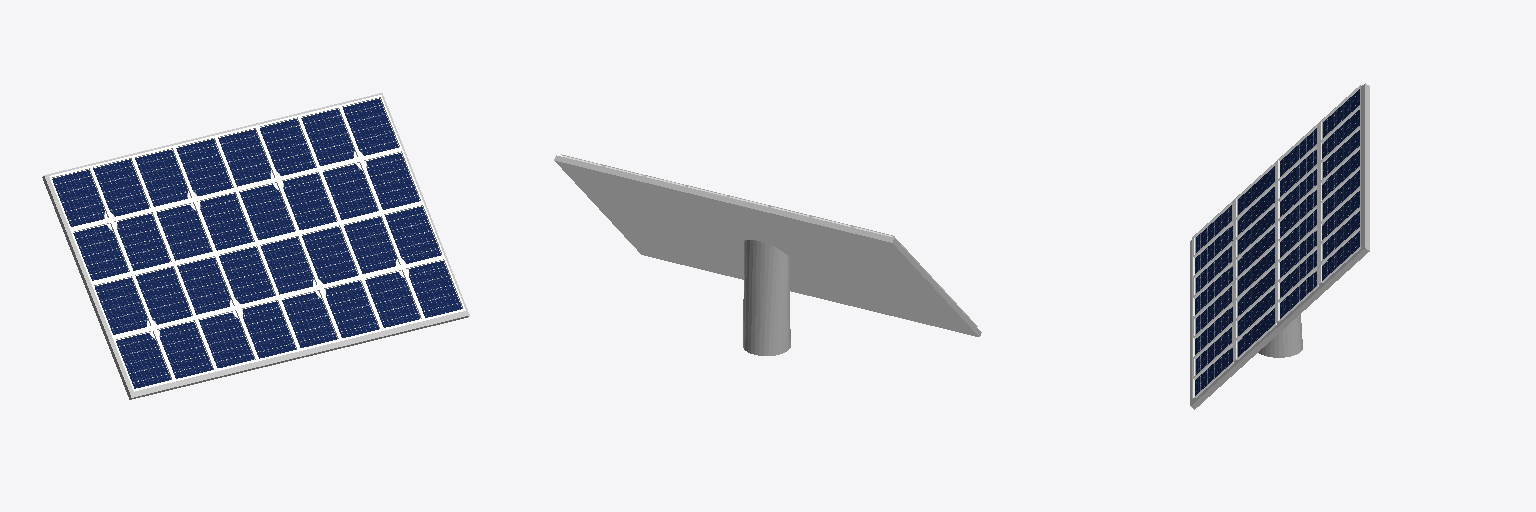
3 renders of one model, left to right at view 1: azimuth 30°, elevation 25°; view 2: azimuth 150°, elevation 25°; view 3: azimuth 270°, elevation 25°, orthographic.
Parts seen in each view (by area): view 1: Plane, Cube; view 2: Cube, Cylinder, Plane; view 3: Plane, Cube, Cylinder.
Part boxes in pixels (x1,y1,x2,y2): Plane: (49,95,465,391); Cube: (42,93,469,399); Cube: (554,155,981,336); Cylinder: (743,240,790,355); Plane: (561,154,977,326); Plane: (1192,85,1360,398); Cube: (1190,83,1369,409); Cylinder: (1258,314,1302,357).
Size of the model in its own units: 8.14 by 4.18 by 3.73.
Materials: 3 (1 with a texture image).